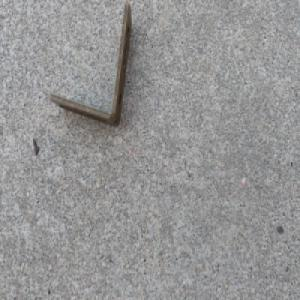MetalPart: (49, 0, 132, 128)
